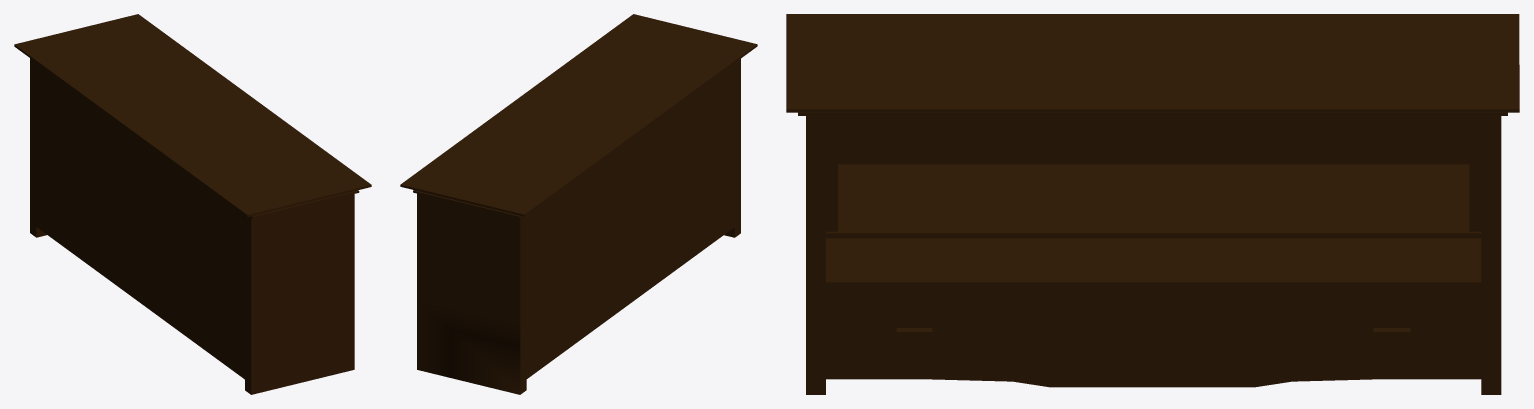
The model's file is RE_RBedFTable.FBX.
The picture shows the model from 3 angles, left to right: view 1: azimuth 30°, elevation 25°; view 2: azimuth 150°, elevation 25°; view 3: azimuth 270°, elevation 25°; orthographic projection. The views are drawn at different scales.
Visible parts, largest first — view 1: RE_RBedFTable; view 2: RE_RBedFTable; view 3: RE_RBedFTable.
Part boxes in pixels (box(x1,y1,x2,y2)): RE_RBedFTable: box(14, 14, 371, 394); RE_RBedFTable: box(400, 14, 757, 394); RE_RBedFTable: box(786, 14, 1519, 394).
Size of the model in its own units: 33.31 by 47.94 by 108.
